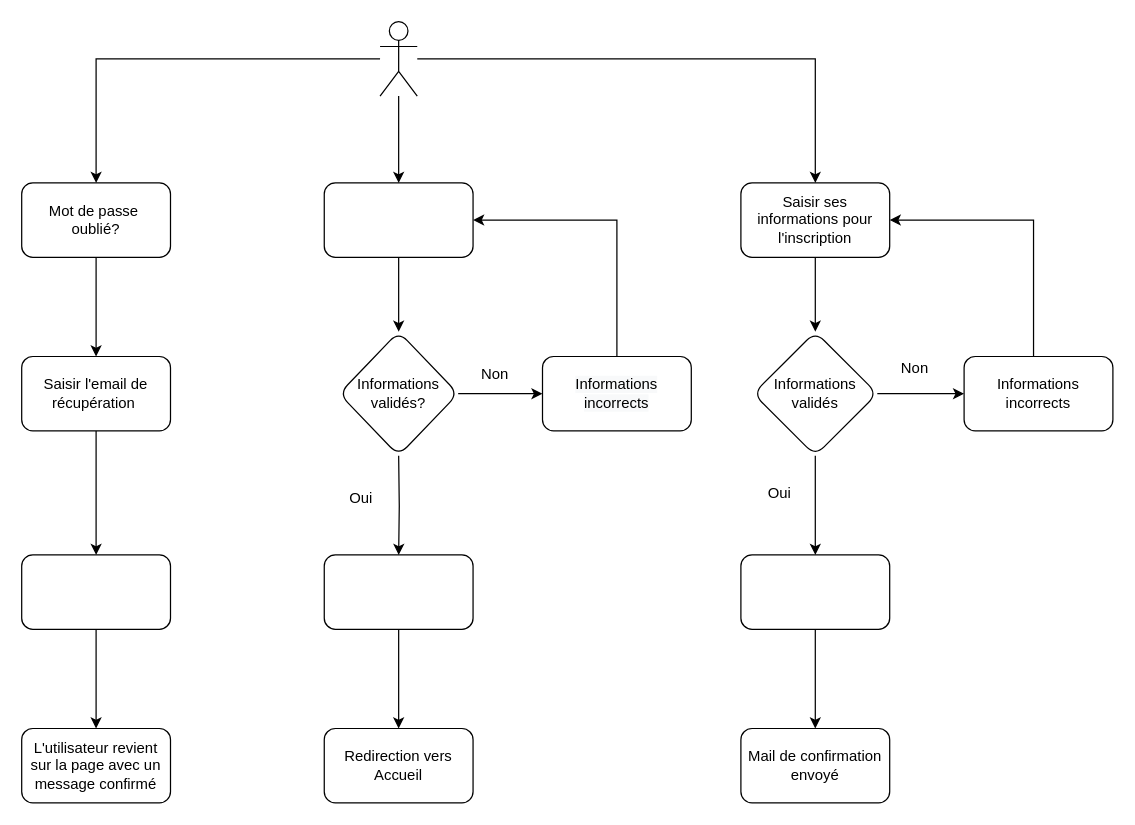
Image size: 1135x825. Some labels were removed from this diagram. The shapes that lost their labels are listed below. From the top down, each one's box as (x1, y1, x2, y2) in pixels, then its label:
(379, 20, 417, 96): User
(323, 182, 473, 257): Saisir ses informations de connexion
(20, 554, 170, 629): Mail de récupération envoyé
(323, 554, 473, 629): Connexion avec succès
(740, 554, 890, 629): Inscription réussi
